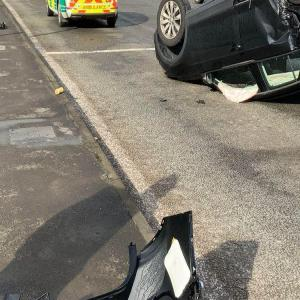severe: (152, 0, 300, 105)
